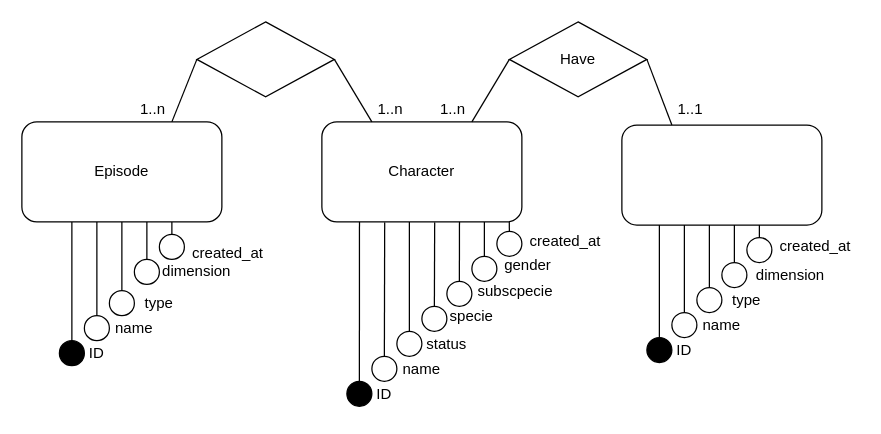
This 881x434 diagram has some shape labels left out. Each missing label, with the centre of its shape:
Appear: (265,59)
Location: (721,174)
